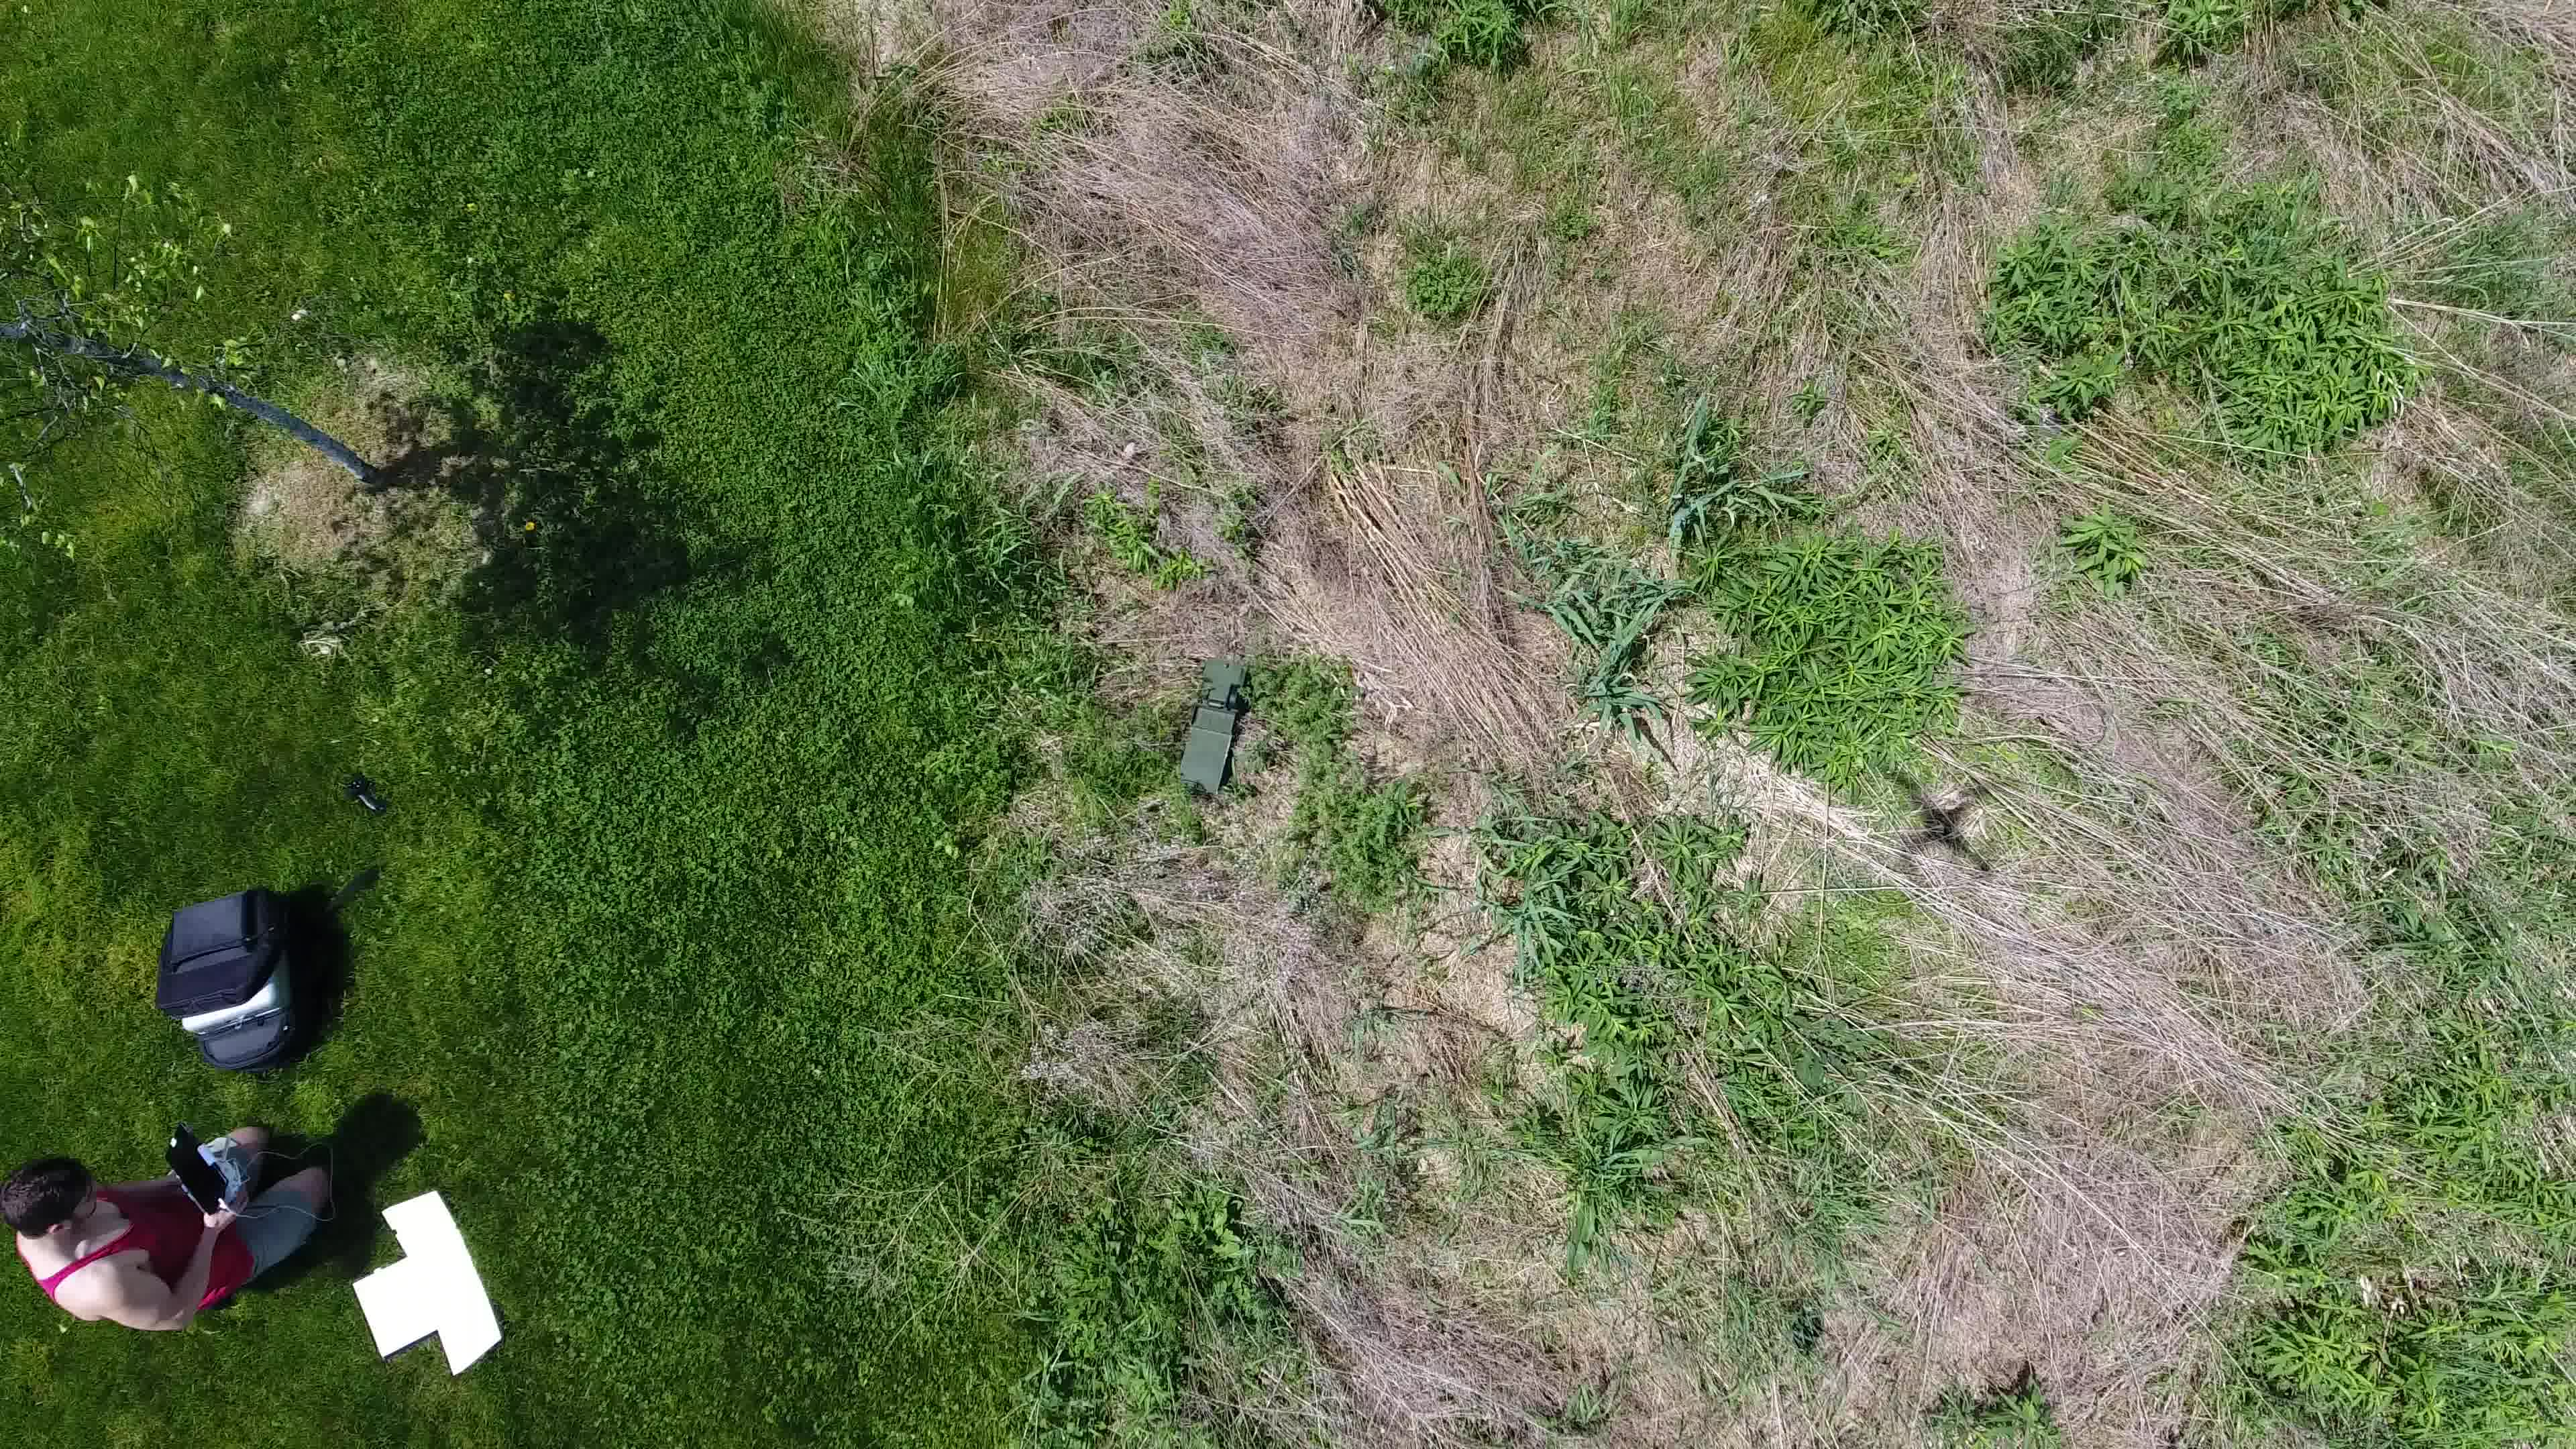transporter9: (1169, 658, 1251, 800)
